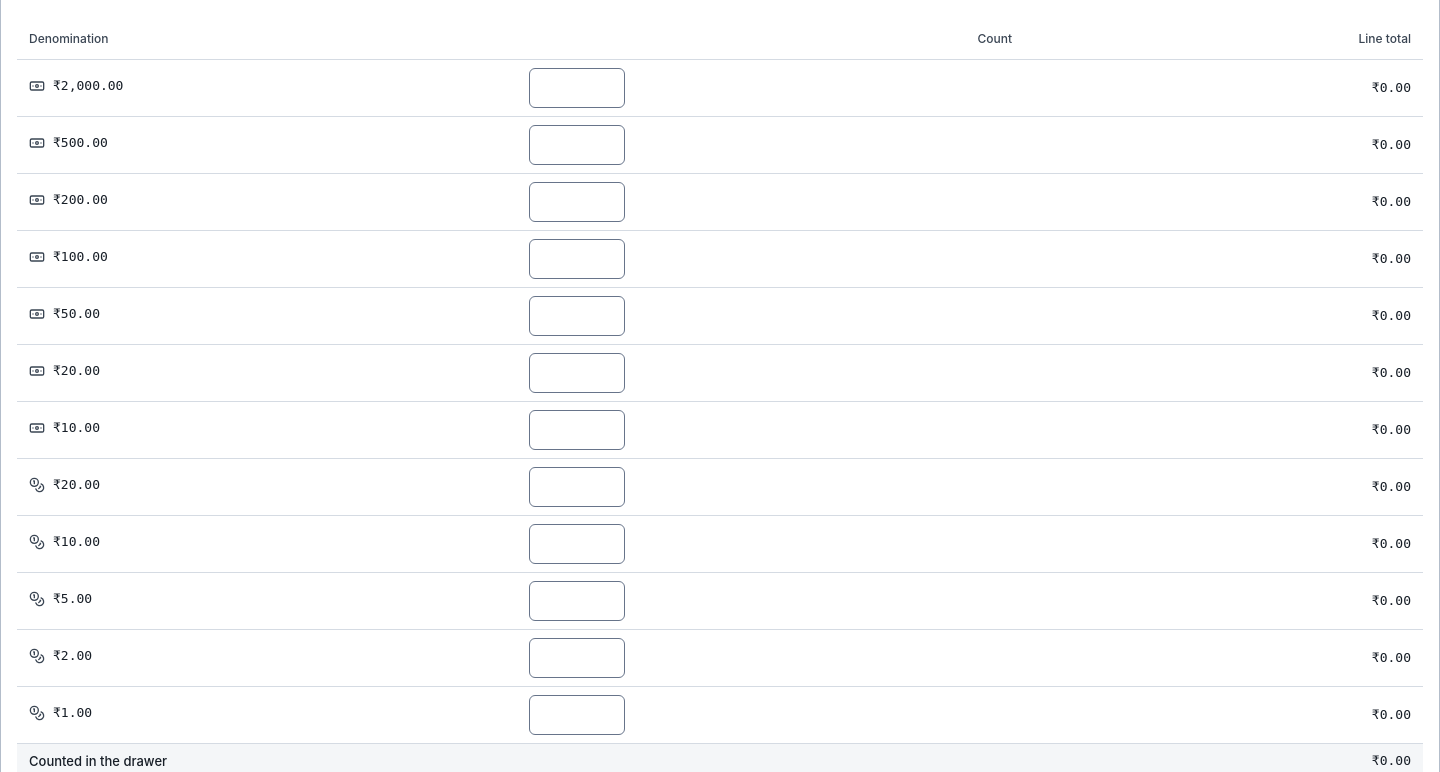
Test: closing the drawer › counts the drawer in whole minor units and will not close a variance without a reason
The image size is (1440, 772).
# One ₹2,000 note is exactly the expected float.
In the field named "Count of ₹2,000.00": (577,88) [529,68,625,108], type "1"
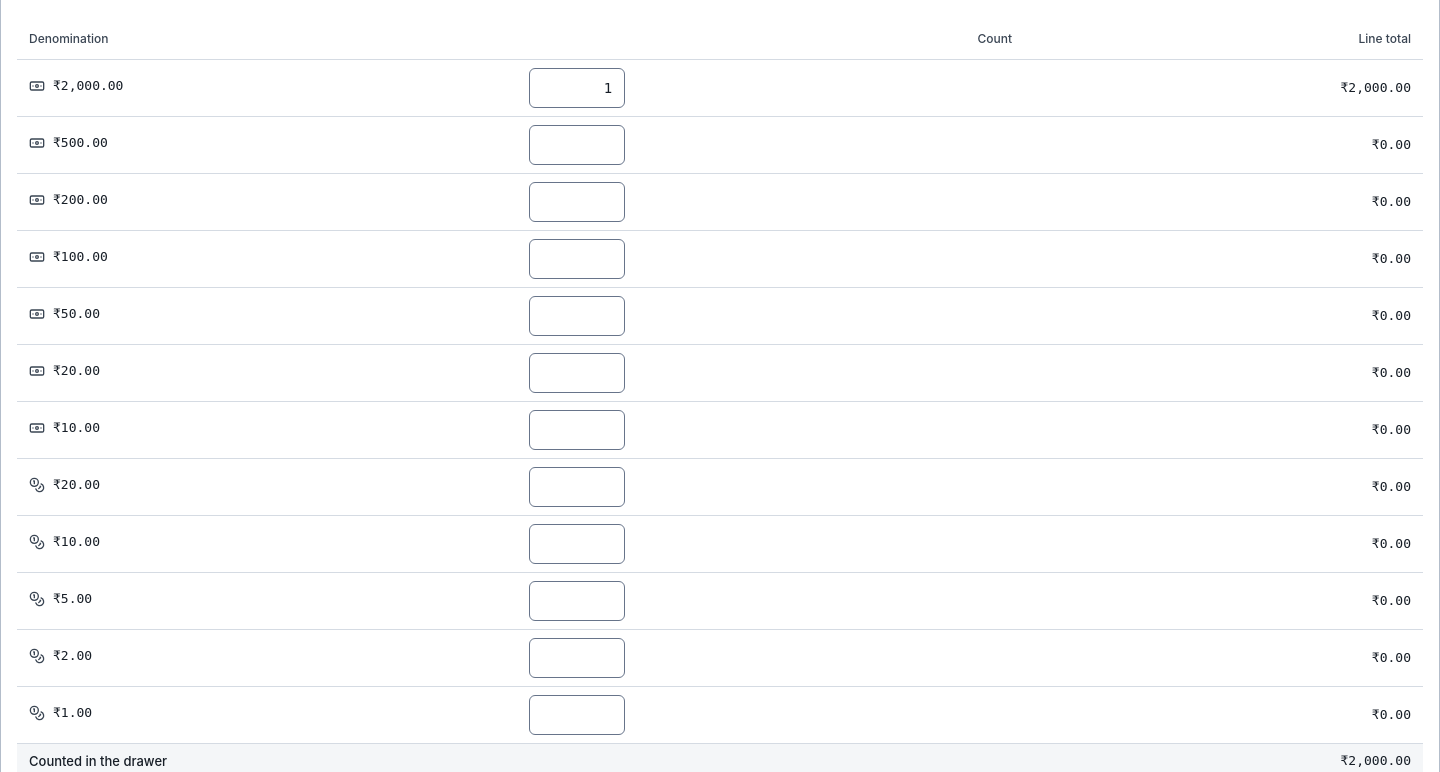
# A second note makes it ₹2,000 over, and now a reason is compulsory.
Replace the text in the field named "Count of ₹2,000.00" with "2": (577,88) [529,68,625,108]
(page scrolled)
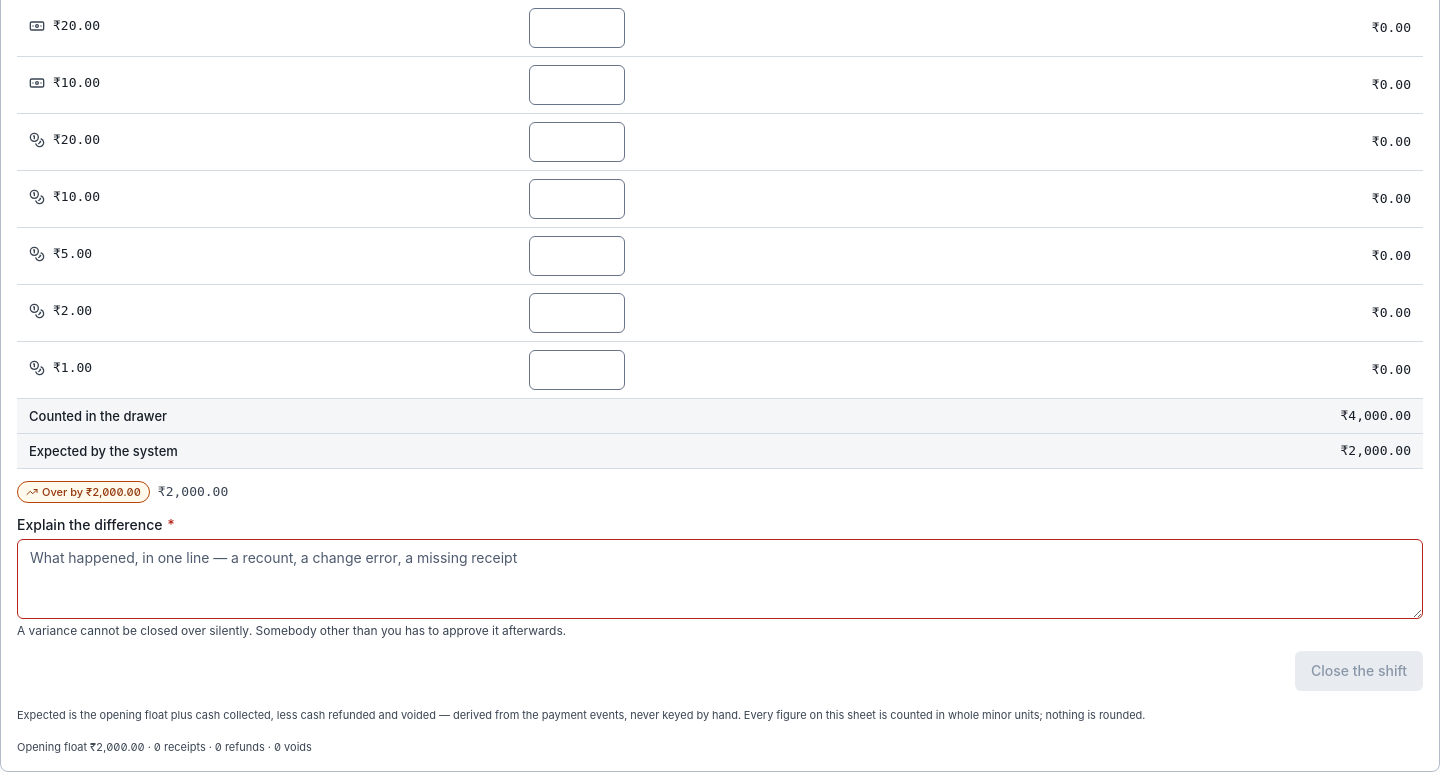
Check: the button "Close the shift" is disabled, box [1295,650,1423,690]
Check: the text "cannot be closed over silently" is shown, box [17,622,566,638]
